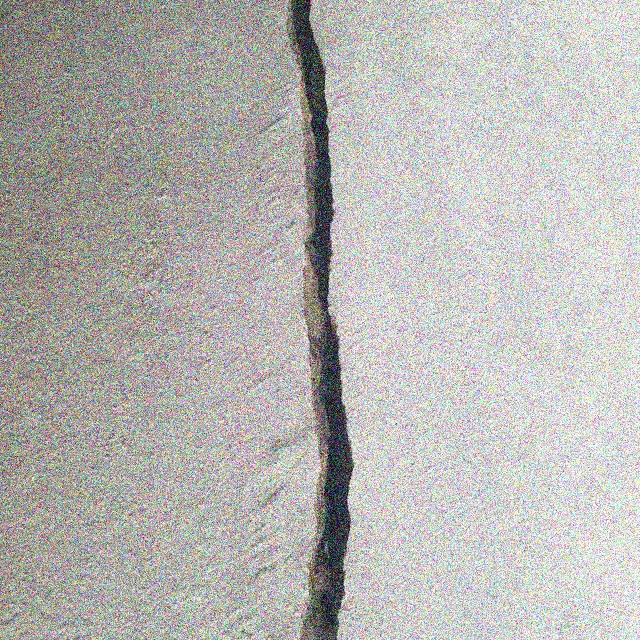SurfaceCrack: (232, 0, 395, 640)
